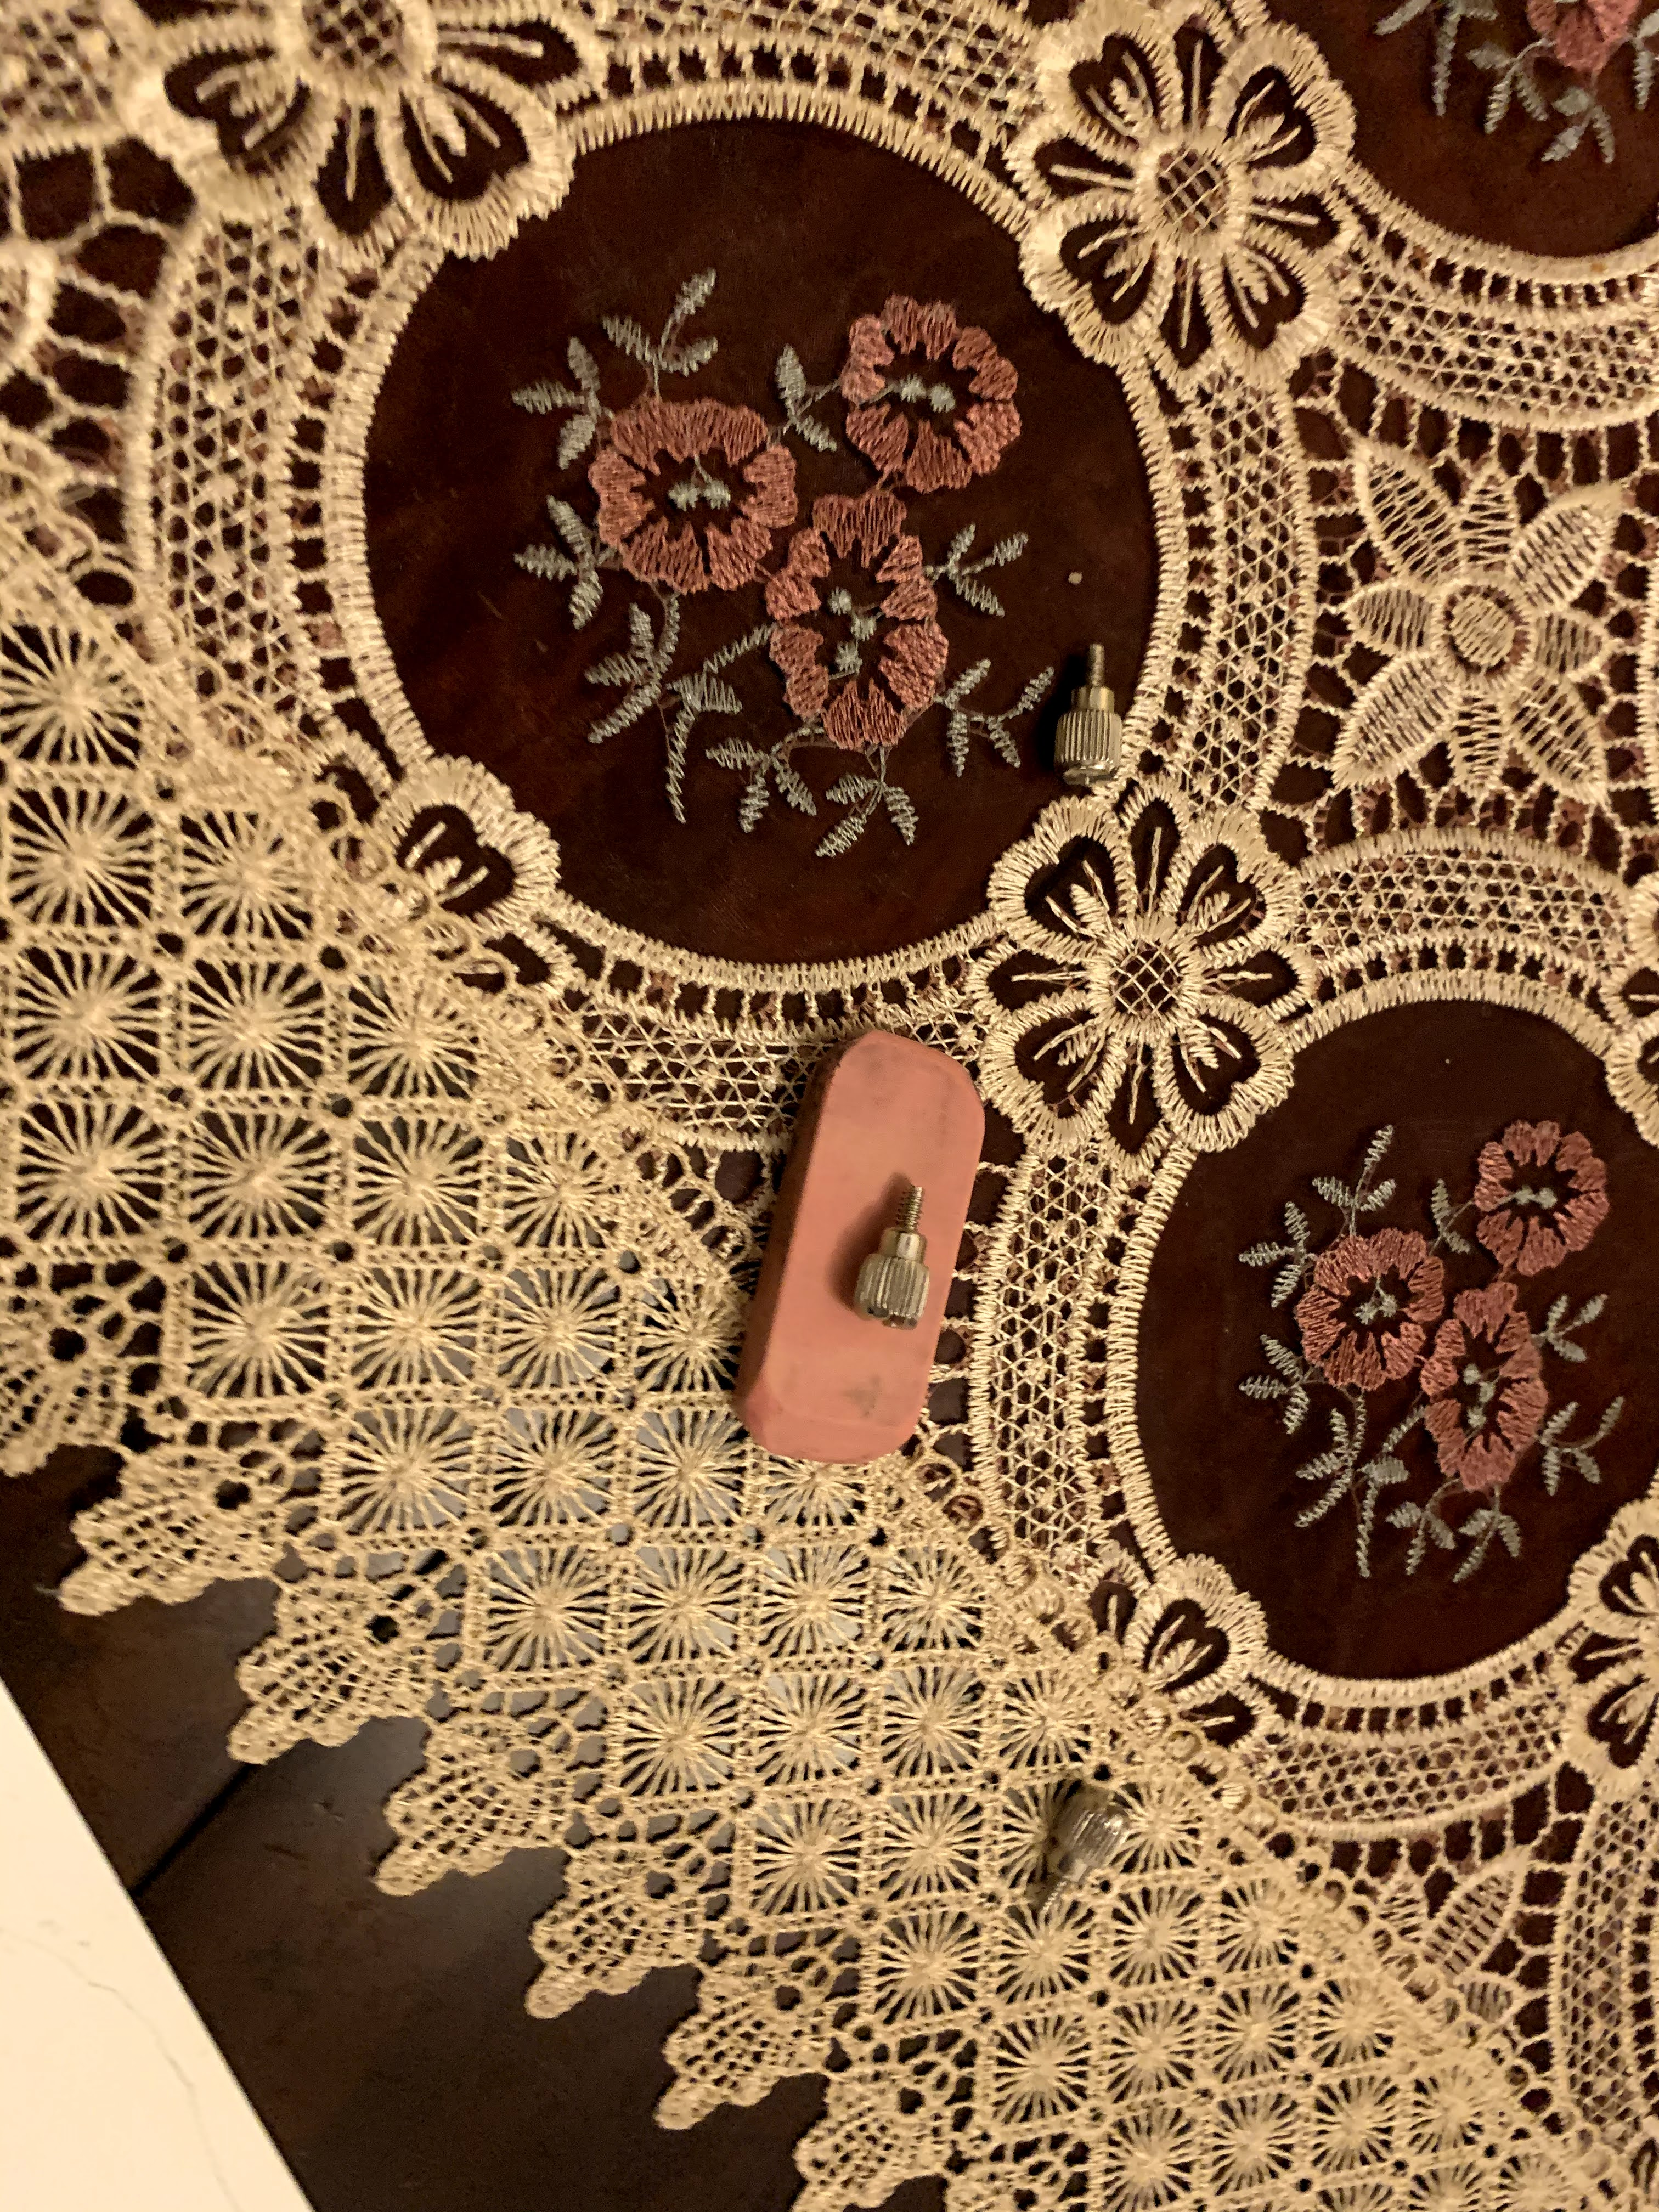Space-debris-small: (845, 1160, 938, 1353), (1025, 1771, 1133, 1928)
